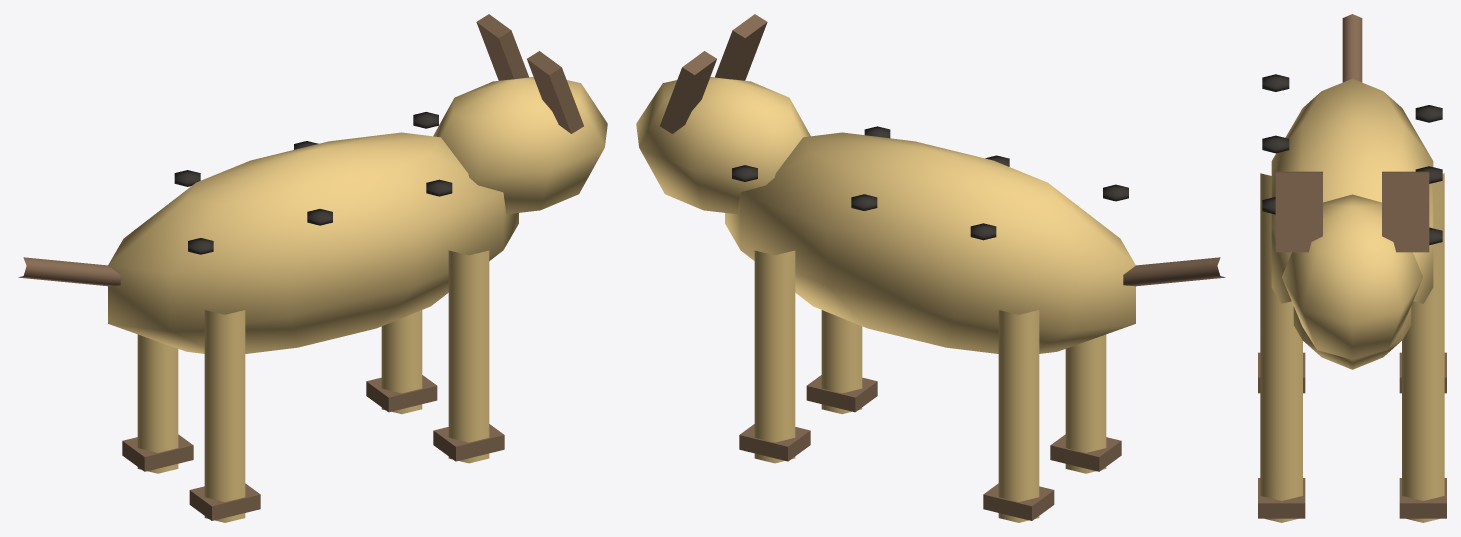
Rendered from leopard.glb.
3 renders of one model, left to right at view 1: azimuth 30°, elevation 25°; view 2: azimuth 150°, elevation 25°; view 3: azimuth 270°, elevation 25°, orthographic. The views are drawn at different scales.
Visible parts, largest first — view 1: leopard; view 2: leopard; view 3: leopard.
Part boxes in pixels (box(x1,y1,x2,y2)): leopard: box(18, 14, 607, 522); leopard: box(636, 14, 1225, 522); leopard: box(1258, 14, 1446, 522).
Size of the model in its own units: 2.07 by 1.23 by 0.544.
